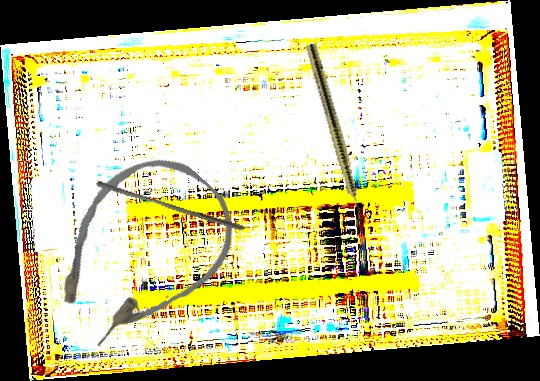Cannula: (21, 132, 257, 372)
Handpiece: (303, 42, 369, 230)
Pusher: (94, 180, 247, 232)
